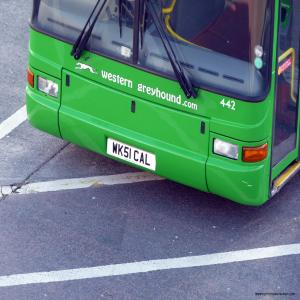Vehicle-registration-plate: (108, 137, 157, 172)
